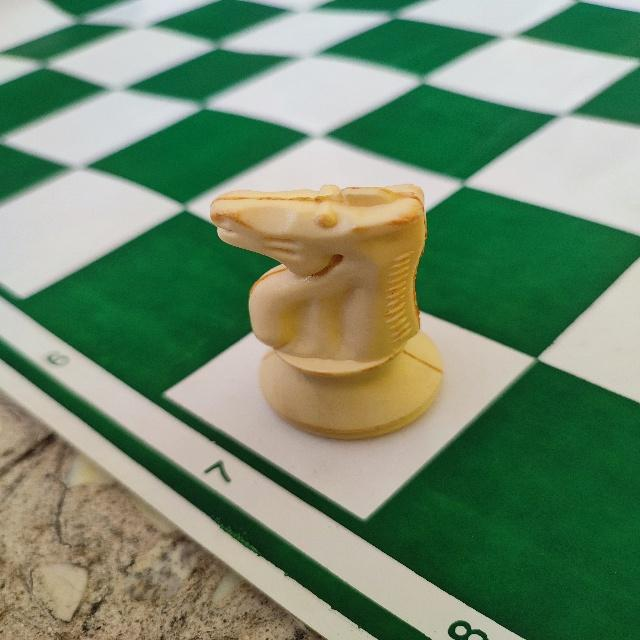Knight: (200, 182, 452, 445)
